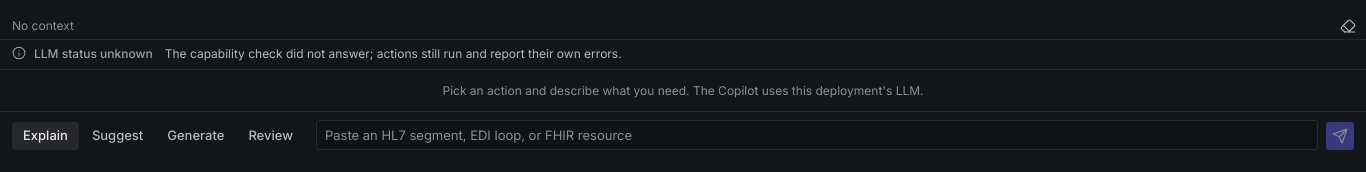
CopilotPanel runs on the backend LLM › fails open when the capability probe errors (unknown state, no block)
In the text box: {"x": 817, "y": 135} [316,120,1318,150], type "some input"
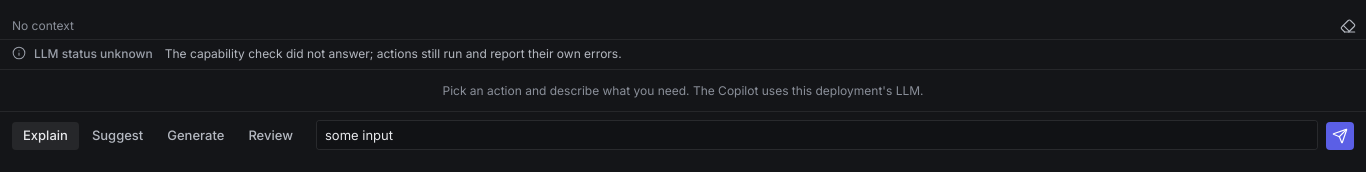
Now the button titled "Send (Enter)" is enabled, box [1326,122,1354,150]
